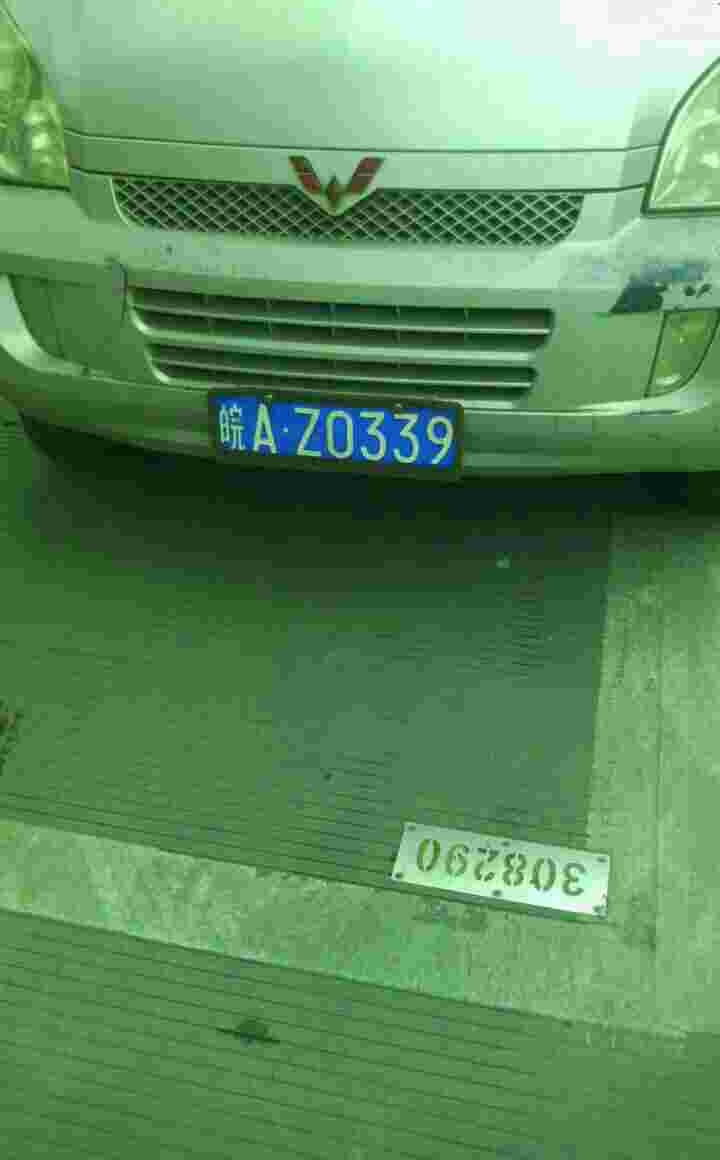license_plate: (221, 392, 459, 467)
